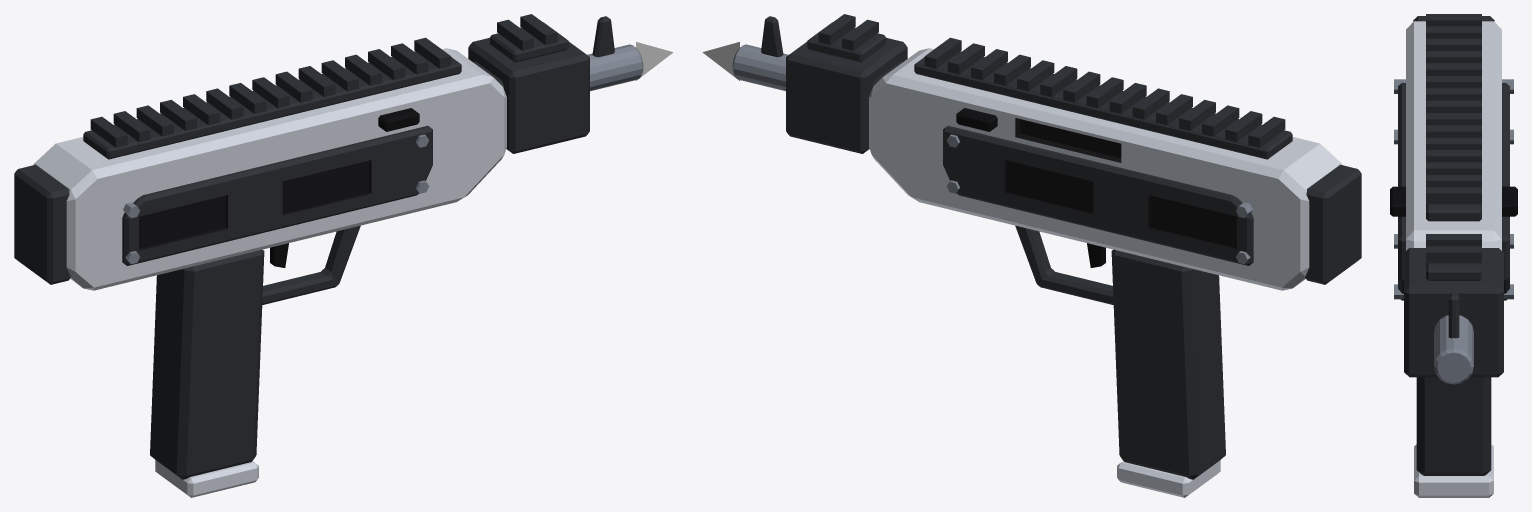
Rendered from submachine_gun42.obj.
The picture shows the model from 3 angles, left to right: view 1: azimuth 30°, elevation 25°; view 2: azimuth 150°, elevation 25°; view 3: azimuth 270°, elevation 25°; orthographic projection. The views are drawn at different scales.
Parts seen in each view (by area): view 1: body, barrel, mag; view 2: body, barrel, mag; view 3: body, barrel, mag.
Part boxes in pixels (bbox=[...]): body: bbox=[14, 14, 568, 479]; barrel: bbox=[468, 16, 643, 153]; mag: bbox=[155, 460, 258, 497]; body: bbox=[807, 14, 1361, 479]; barrel: bbox=[732, 16, 907, 153]; mag: bbox=[1117, 460, 1220, 497]; body: bbox=[1390, 14, 1517, 475]; barrel: bbox=[1404, 248, 1503, 384]; mag: bbox=[1414, 444, 1493, 497].
Size of the model in its own units: 0.306 by 0.1705 by 0.048.
